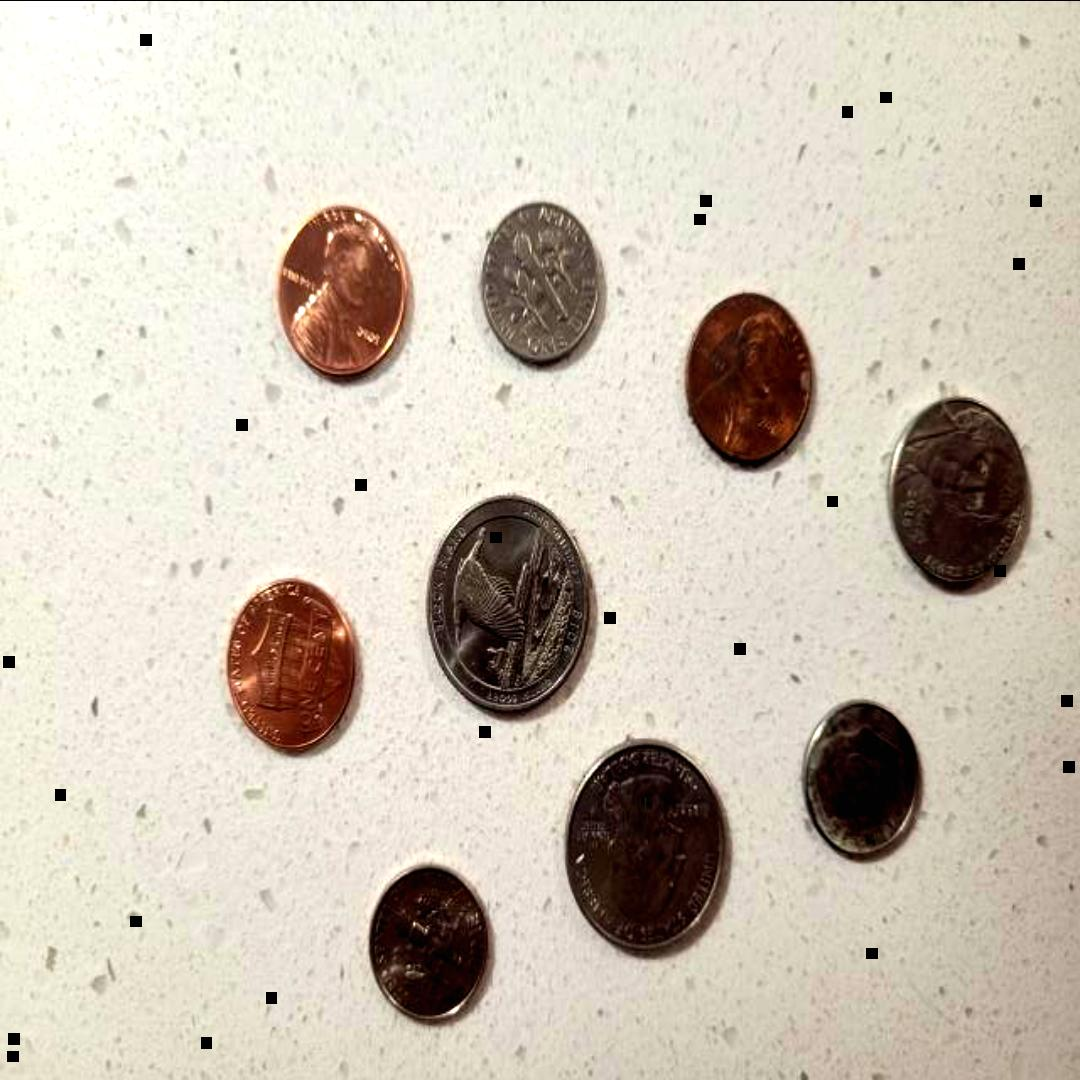Dime: (786, 690, 934, 868), (468, 193, 612, 375), (360, 860, 496, 1032)
Nickel: (882, 388, 1038, 596)
Penny: (217, 556, 370, 768), (266, 192, 412, 390), (674, 284, 820, 479)
Quarter: (416, 479, 603, 725), (554, 733, 736, 960)
